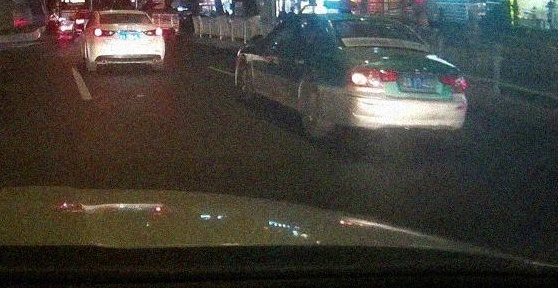L_light: (347, 67, 397, 87), (93, 28, 115, 36)
R_light: (439, 73, 466, 90), (143, 27, 162, 36)
T_light: (369, 20, 387, 24), (118, 13, 130, 15)
night-left: (326, 14, 468, 145)
night-no: (92, 10, 164, 72)
